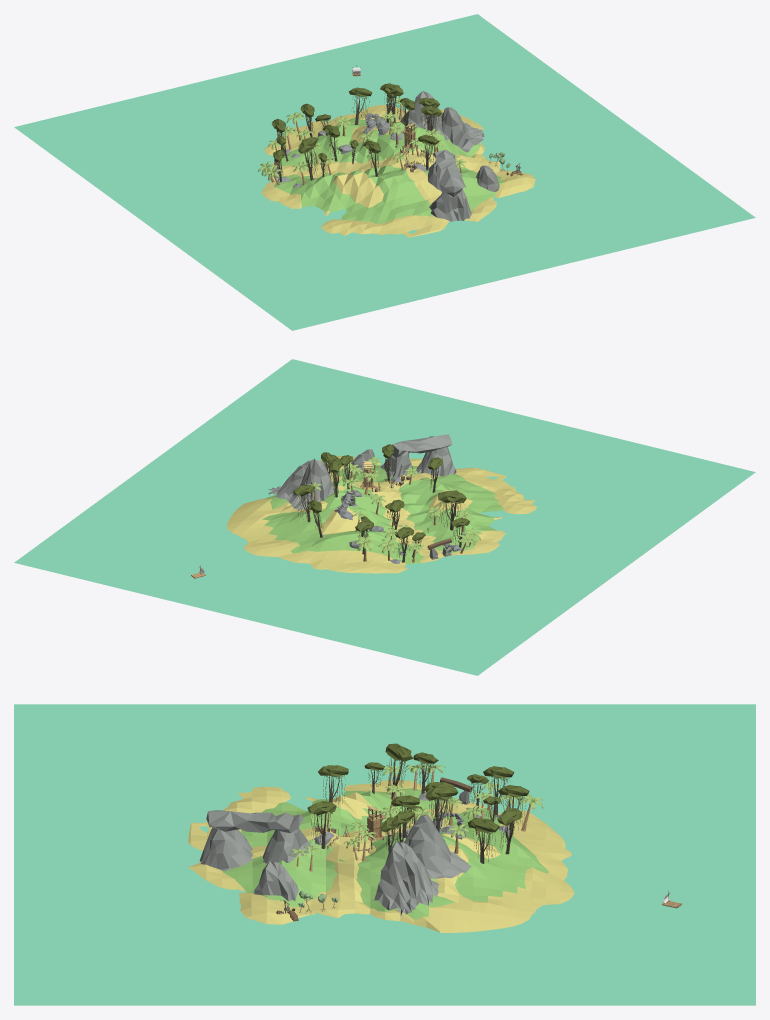
File: TestNature.fbx
3 views of the same model, one above another, from view 1: azimuth 30°, elevation 25°; view 2: azimuth 150°, elevation 25°; view 3: azimuth 270°, elevation 25° (orthographic). The views are drawn at different scales.
Visible parts, largest first — view 1: Water, Landscape, Big_Rock_2, Big_Rock_2_2, Big_Rock_2_1; view 2: Water, Landscape, Big_Rock_2, Big_Rock_2_1, Big_Rock_2_2, Tree_6; view 3: Water, Landscape, Big_Rock_2, Big_Rock_2_2, Big_Rock_2_1, Big_Rock_2_3, Tree_2, Tree_3, Tree_6, Tree_9, Tree_13, Tree (+2 smaller).
Boxes of the visible parts, left/top/right/bottom form: Water: left=14, top=14, right=755, bottom=330; Landscape: left=261, top=105, right=535, bottom=237; Big_Rock_2: left=428, top=149, right=471, bottom=221; Big_Rock_2_2: left=441, top=107, right=484, bottom=152; Big_Rock_2_1: left=400, top=91, right=448, bottom=140; Water: left=14, top=359, right=755, bottom=675; Landscape: left=227, top=455, right=537, bottom=573; Big_Rock_2: left=380, top=434, right=456, bottom=477; Big_Rock_2_1: left=287, top=458, right=335, bottom=510; Big_Rock_2_2: left=268, top=461, right=309, bottom=499; Tree_6: left=438, top=490, right=466, bottom=530; Water: left=14, top=704, right=755, bottom=1005; Landscape: left=188, top=780, right=574, bottom=932; Big_Rock_2: left=199, top=810, right=310, bottom=871; Big_Rock_2_2: left=374, top=841, right=439, bottom=915; Big_Rock_2_1: left=404, top=814, right=472, bottom=878; Big_Rock_2_3: left=254, top=861, right=298, bottom=901; Tree_2: left=467, top=817, right=499, bottom=863; Tree_3: left=425, top=785, right=458, bottom=832; Tree_6: left=385, top=743, right=413, bottom=799; Tree_9: left=307, top=801, right=336, bottom=848; Tree_13: left=318, top=765, right=348, bottom=813; Tree: left=497, top=808, right=521, bottom=854.
Size of the model in its own units: 970 by 186 by 1009.
1 material, 1 textured.
